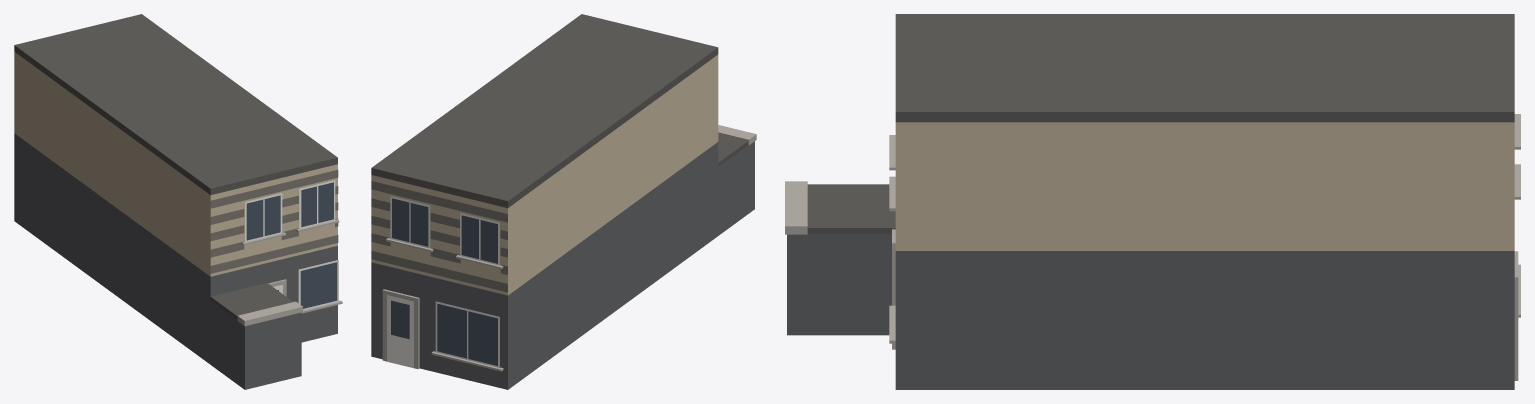
Rendered from nd-tw-flat__striped-box__2__flat__long__solid.glb.
3 views of the same model, side by side, from view 1: azimuth 30°, elevation 25°; view 2: azimuth 150°, elevation 25°; view 3: azimuth 270°, elevation 25° (orthographic). The views are drawn at different scales.
Parts seen in each view (by area): view 1: nd-tw-flat__striped-box__2__flat__long__solid; view 2: nd-tw-flat__striped-box__2__flat__long__solid; view 3: nd-tw-flat__striped-box__2__flat__long__solid.
Part boxes in pixels (bbox=[...]): nd-tw-flat__striped-box__2__flat__long__solid: bbox=[14, 14, 342, 389]; nd-tw-flat__striped-box__2__flat__long__solid: bbox=[371, 14, 756, 389]; nd-tw-flat__striped-box__2__flat__long__solid: bbox=[785, 14, 1520, 389].
Size of the model in its own units: 4.63 by 5.94 by 14.26.
